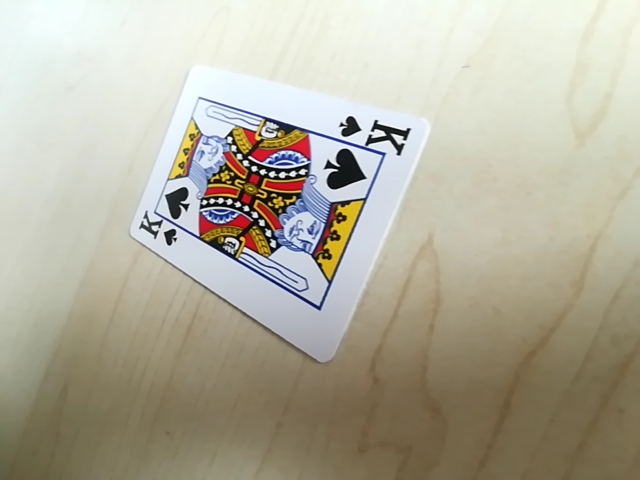ht k: (332, 112, 414, 151), (134, 210, 180, 252)
